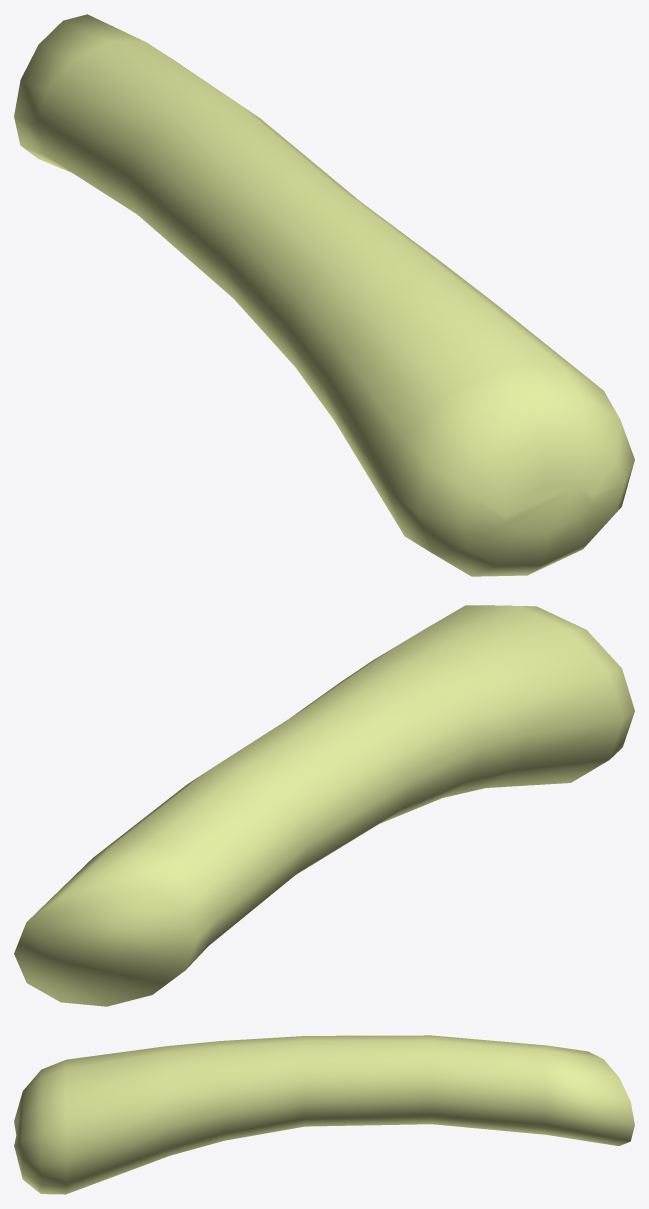
File: Bone5_Bogdan.fbx
The picture shows the model from 3 angles, top to bottom: view 1: azimuth 30°, elevation 25°; view 2: azimuth 150°, elevation 25°; view 3: azimuth 270°, elevation 25°; orthographic projection. The views are drawn at different scales.
Visible parts, largest first — view 1: Bone5; view 2: Bone5; view 3: Bone5.
Boxes of the visible parts, x1=… form: Bone5: x1=14, y1=14, x2=634, y2=576; Bone5: x1=14, y1=605, x2=634, y2=1006; Bone5: x1=14, y1=1035, x2=634, y2=1194.
Size of the model in its own units: 228 by 225 by 883.
